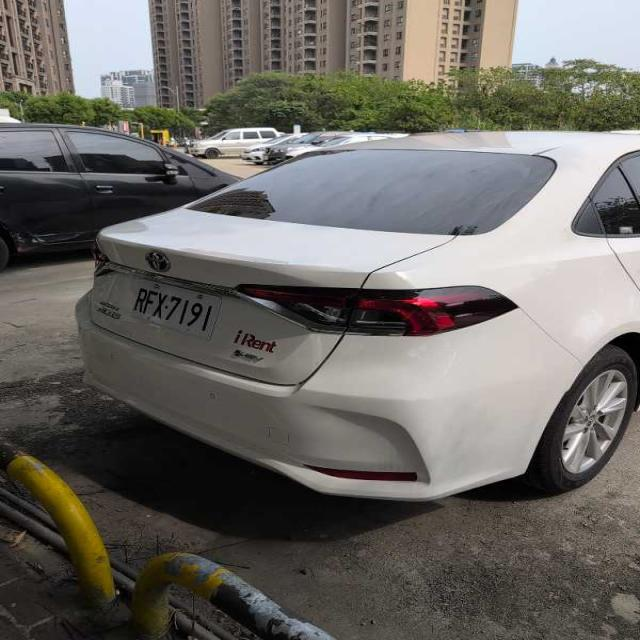license plate: (129, 280, 220, 338)
wheel: (527, 347, 637, 494)
